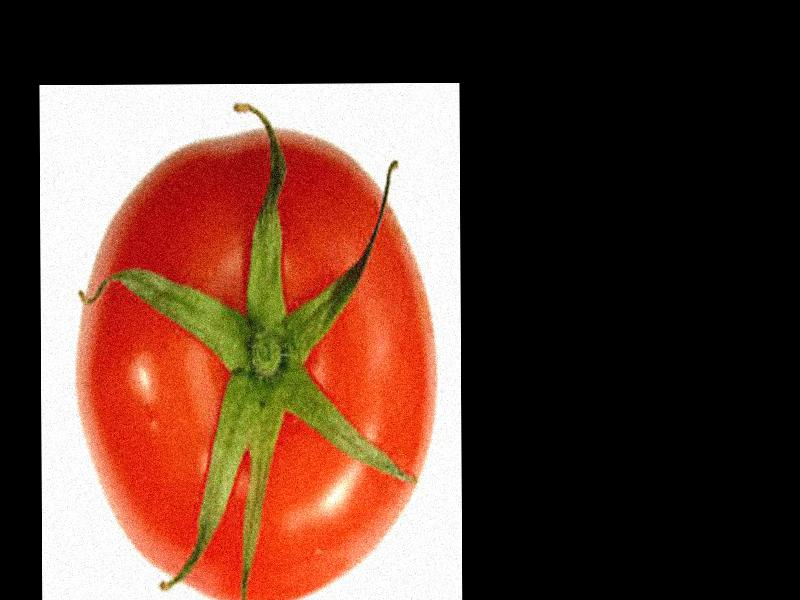Tomato: (76, 128, 437, 600)
